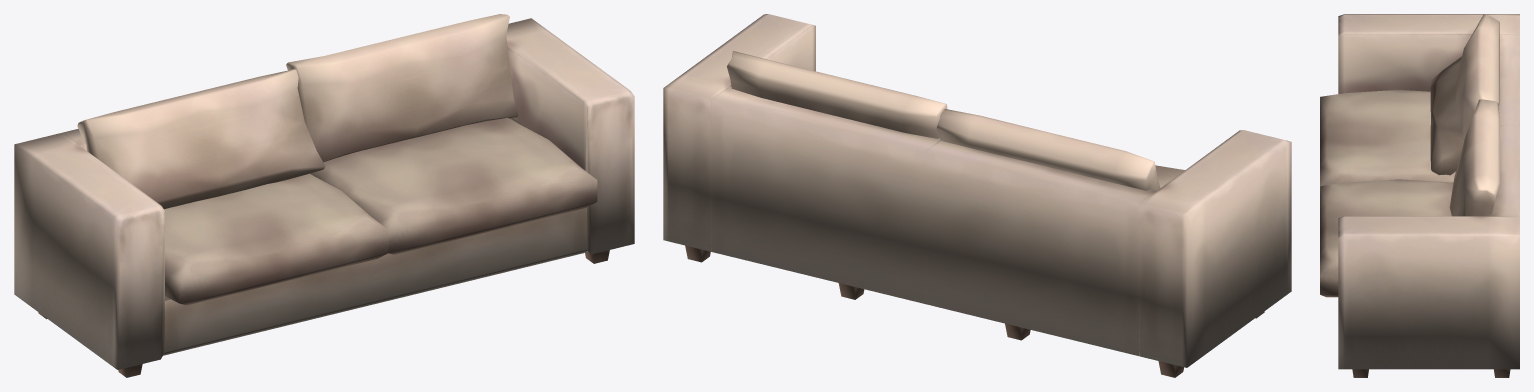
Rendered from product_3.obj.
The picture shows the model from 3 angles, left to right: view 1: azimuth 30°, elevation 25°; view 2: azimuth 150°, elevation 25°; view 3: azimuth 270°, elevation 25°; orthographic projection. The views are drawn at different scales.
Size of the model in its own units: 0.0438 by 0.0162 by 0.0166.
Materials: 1 (1 with a texture image).
